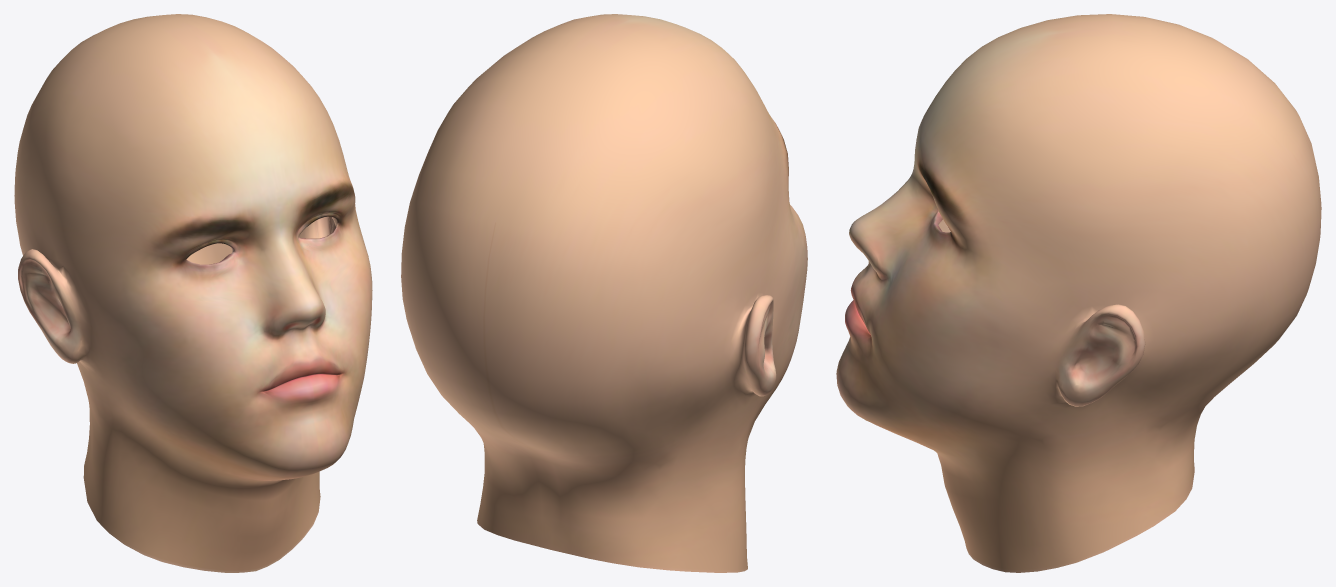
The model's file is young.obj.
3 renders of one model, left to right at view 1: azimuth 30°, elevation 25°; view 2: azimuth 150°, elevation 25°; view 3: azimuth 270°, elevation 25°, orthographic. The views are drawn at different scales.
Visible parts, largest first — view 1: skin_hi; view 2: skin_hi; view 3: skin_hi.
Part boxes in pixels (box(x1,y1,x2,y2)): skin_hi: box(14, 14, 372, 572); skin_hi: box(401, 14, 807, 572); skin_hi: box(836, 14, 1321, 572).
Bounding box in the file's own units: 2.44 × 3.67 × 3.11.
